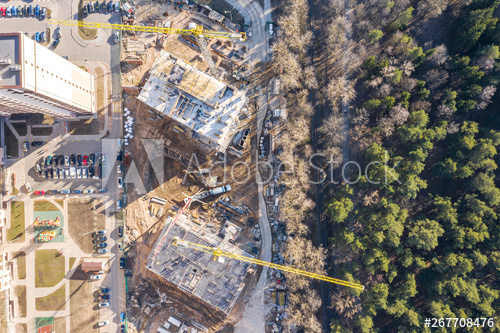crane: (175, 238, 364, 293), (55, 17, 247, 39)
